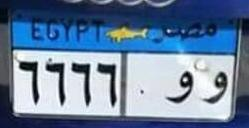6: (95, 59, 121, 109), (44, 59, 67, 109), (70, 61, 93, 109), (18, 59, 41, 107)
waw: (163, 66, 195, 107), (200, 64, 228, 110)
